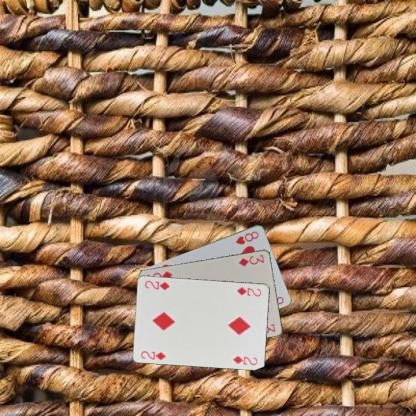2d: (234, 284, 263, 298), (138, 349, 167, 361)
3d: (236, 252, 265, 267)
8h: (233, 228, 260, 246)
